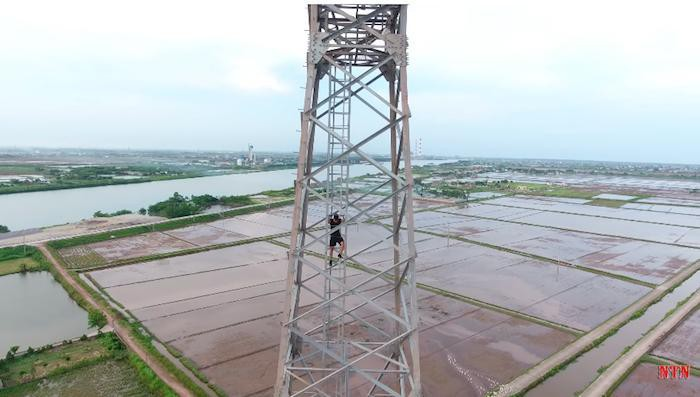infiltrator: (320, 205, 350, 268)
